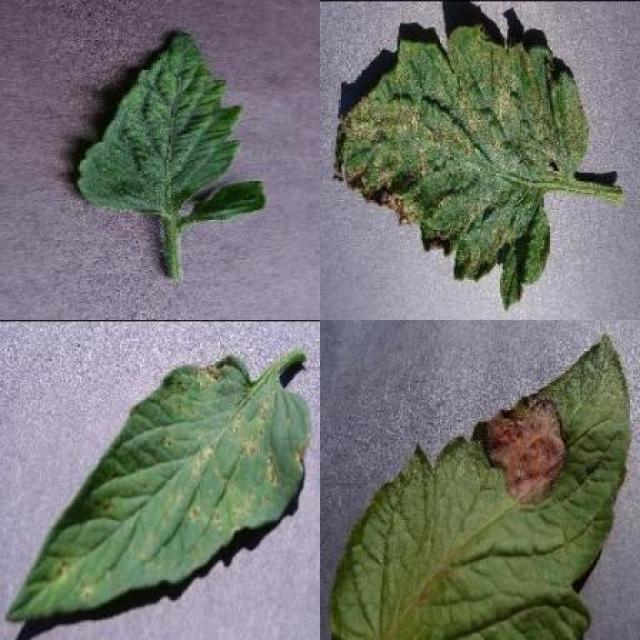Late Blight: (324, 328, 631, 640)
Mosaic Virus: (75, 32, 269, 222)
Septoria: (6, 354, 311, 620), (333, 23, 590, 310)
